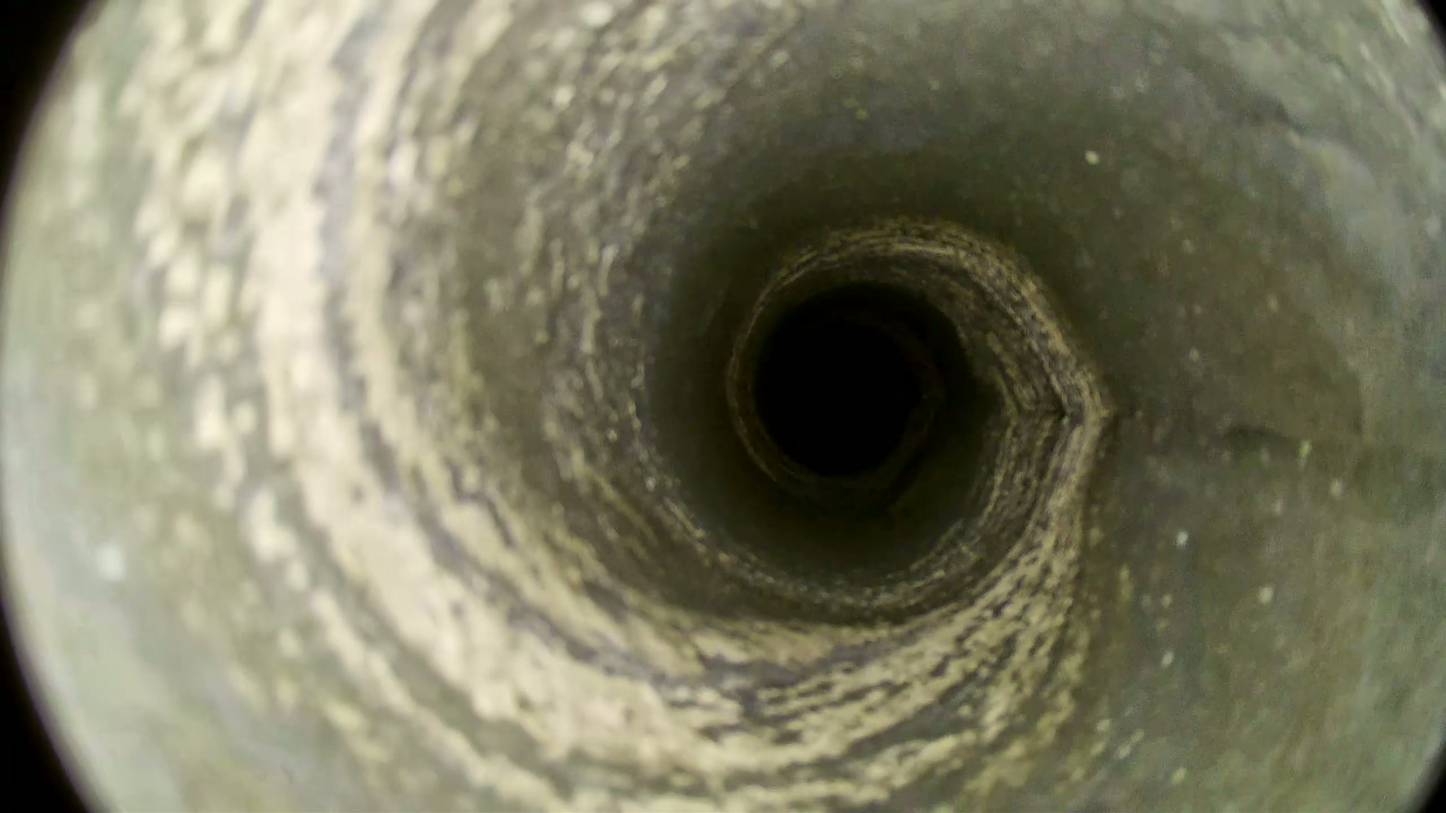hole: (768, 324, 915, 474)
